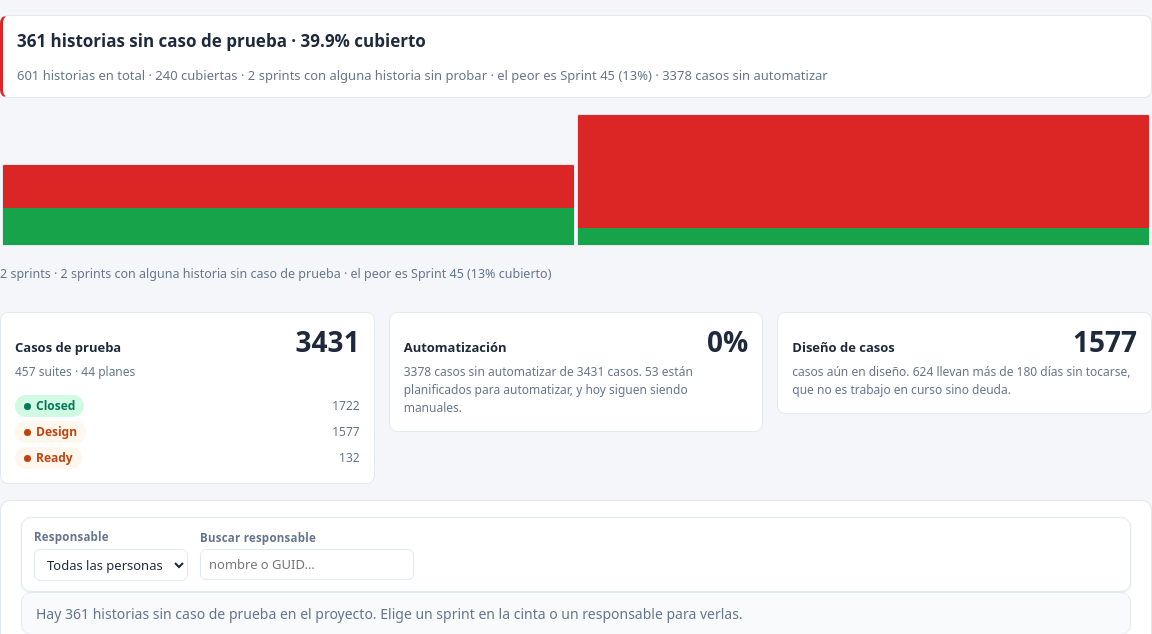
Scenario: la lista de trabajo › marca las historias sin sprint, que no se ocultan por un filtro
The image size is (1152, 634).
Click the button named "Sprint 45": point(864, 180) [577,114,1150,246]
(page scrolled)
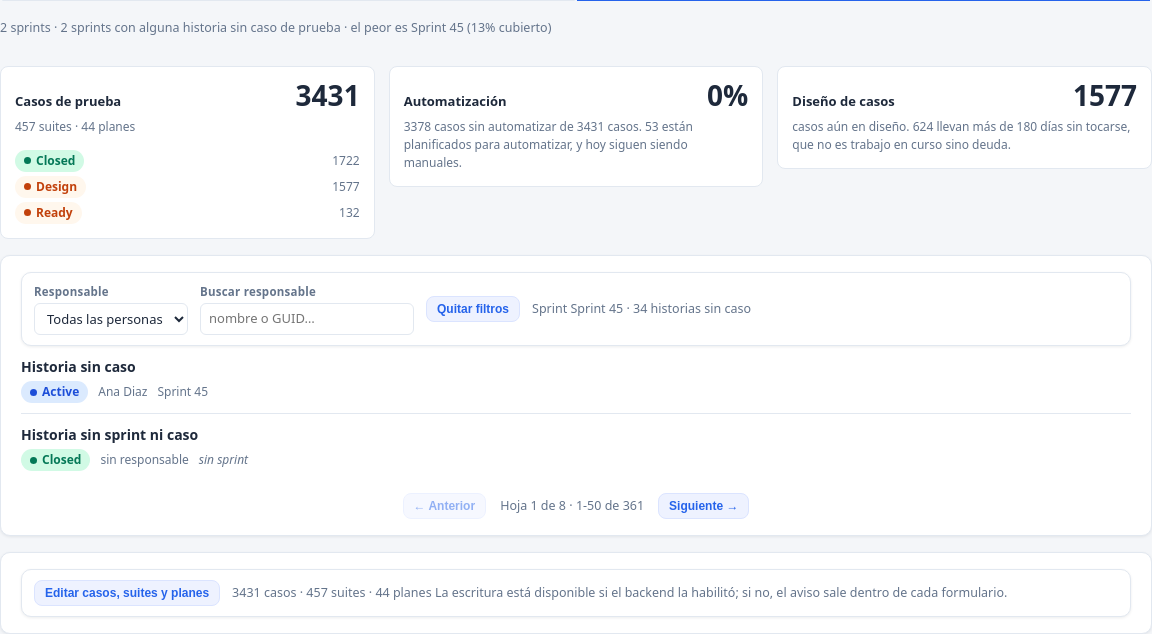
Expected: the text "sin sprint" is shown, [199,451,248,469]
